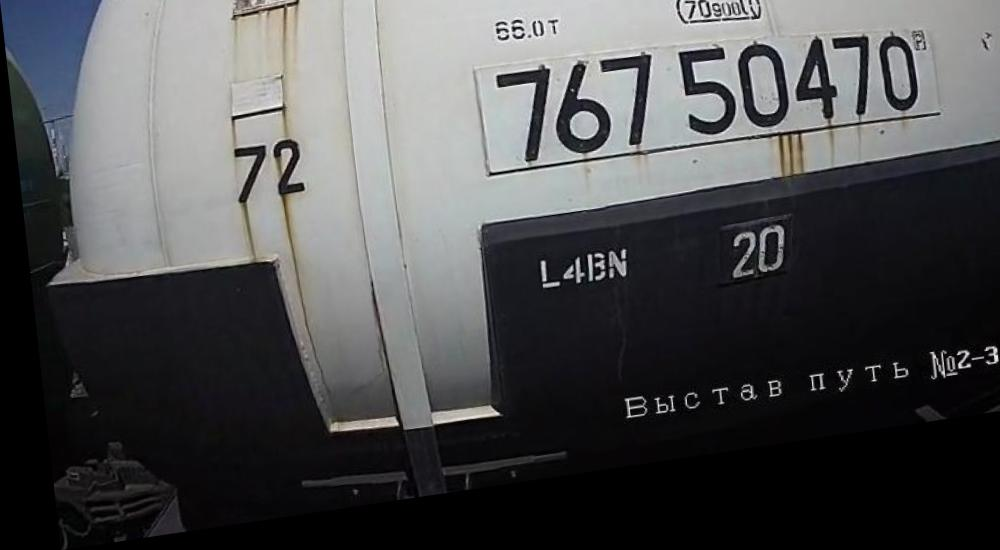Wagon-number: (487, 34, 920, 194)
